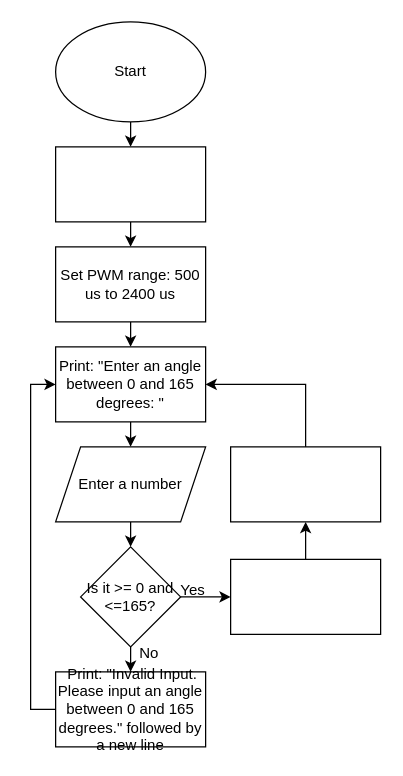
This 403x776 diagram has some shape labels left out. Here are the shapes that lost their labels. From the top down, the centre of each, then its label:
At (x=130, y=184): "Set PWM Frequency to 50 Hz".
At (x=305, y=484): "Set servo position to entered angle".
At (x=305, y=596): "print entered angle followed by a new line".
